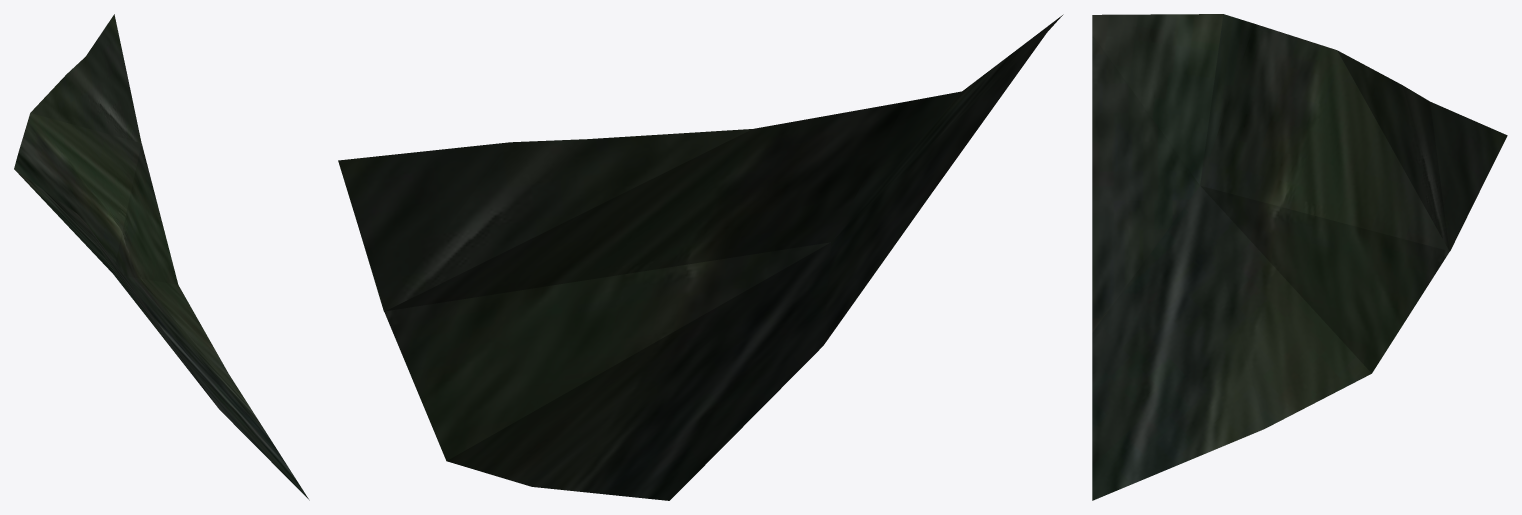
3 renders of one model, left to right at view 1: azimuth 30°, elevation 25°; view 2: azimuth 150°, elevation 25°; view 3: azimuth 270°, elevation 25°, orthographic. The views are drawn at different scales.
Size of the model in its own units: 1.84 by 2.58 by 2.66.
2 materials, 2 textured.
